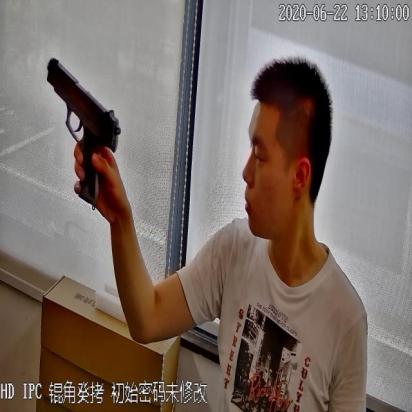Gun: (39, 54, 124, 199)
